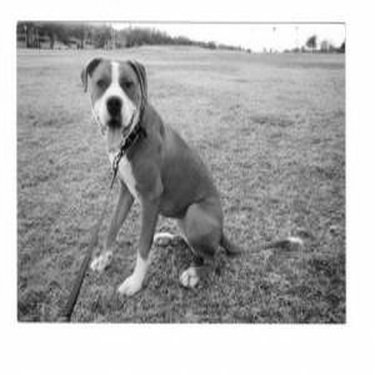dog: (72, 47, 308, 306)
